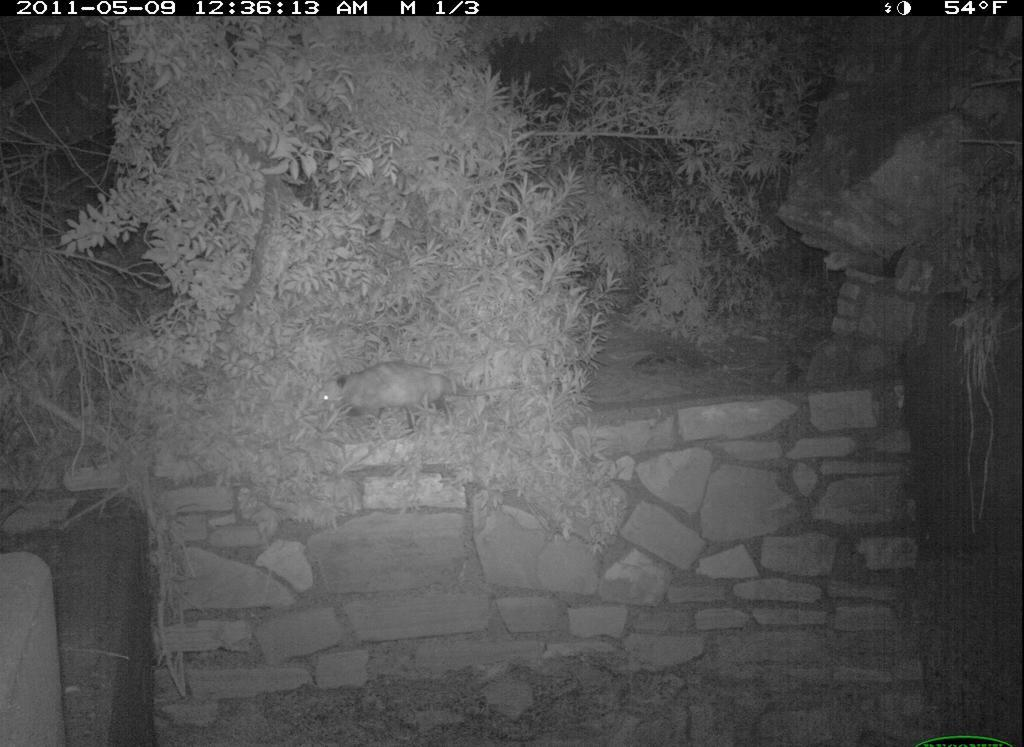opossum: (304, 358, 527, 433)
